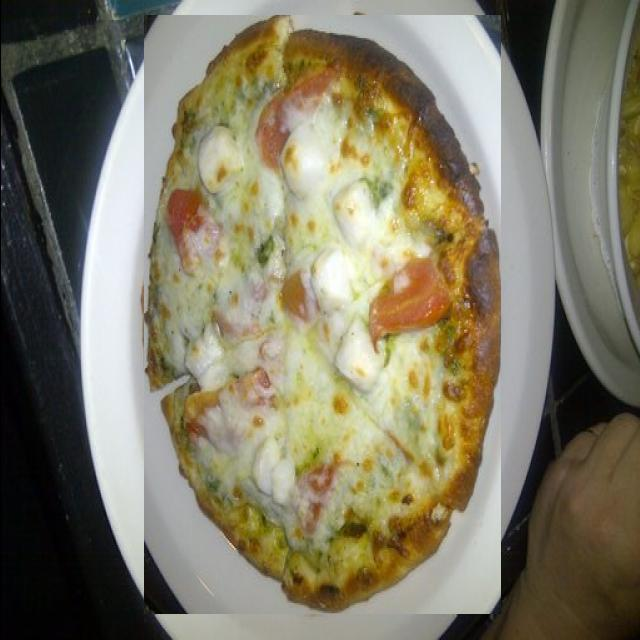pizza: (143, 16, 500, 616)
